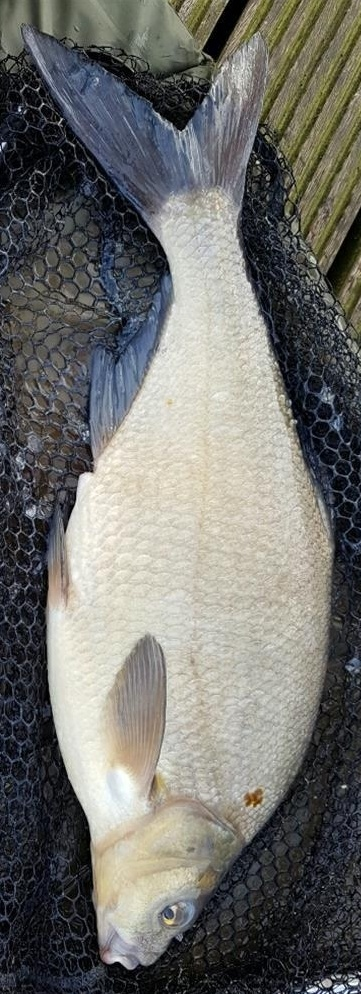Abramis brama: (20, 20, 341, 974)
